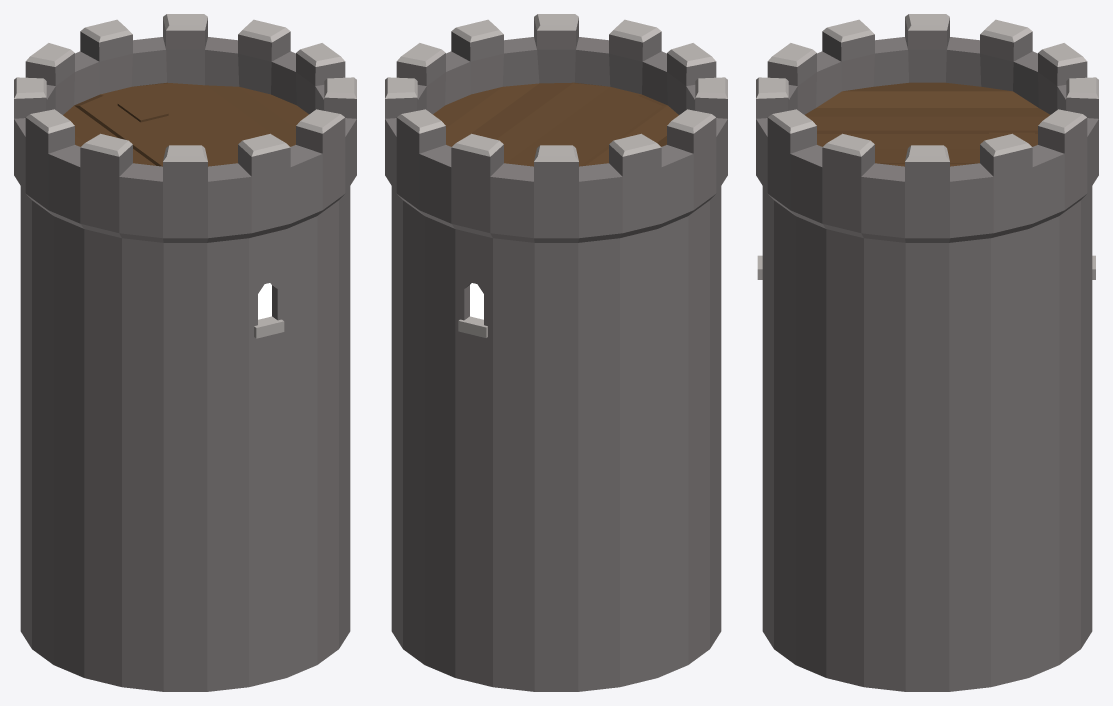
The model's file is medieval-tower-castle-round.glb.
3 views of the same model, side by side, from view 1: azimuth 30°, elevation 25°; view 2: azimuth 150°, elevation 25°; view 3: azimuth 270°, elevation 25° (orthographic).
Visible parts, largest first — view 1: tower-castle_round; view 2: tower-castle_round; view 3: tower-castle_round.
Part boxes in pixels (x1=…): tower-castle_round: x1=14, y1=14, x2=356, y2=691; tower-castle_round: x1=385, y1=14, x2=727, y2=691; tower-castle_round: x1=756, y1=14, x2=1098, y2=691.
Size of the model in its own units: 8.18 by 14.14 by 8.18.
